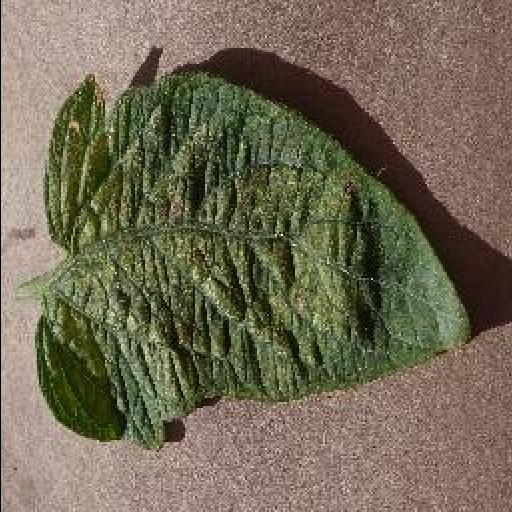disease_tomato: (34, 74, 472, 452)
